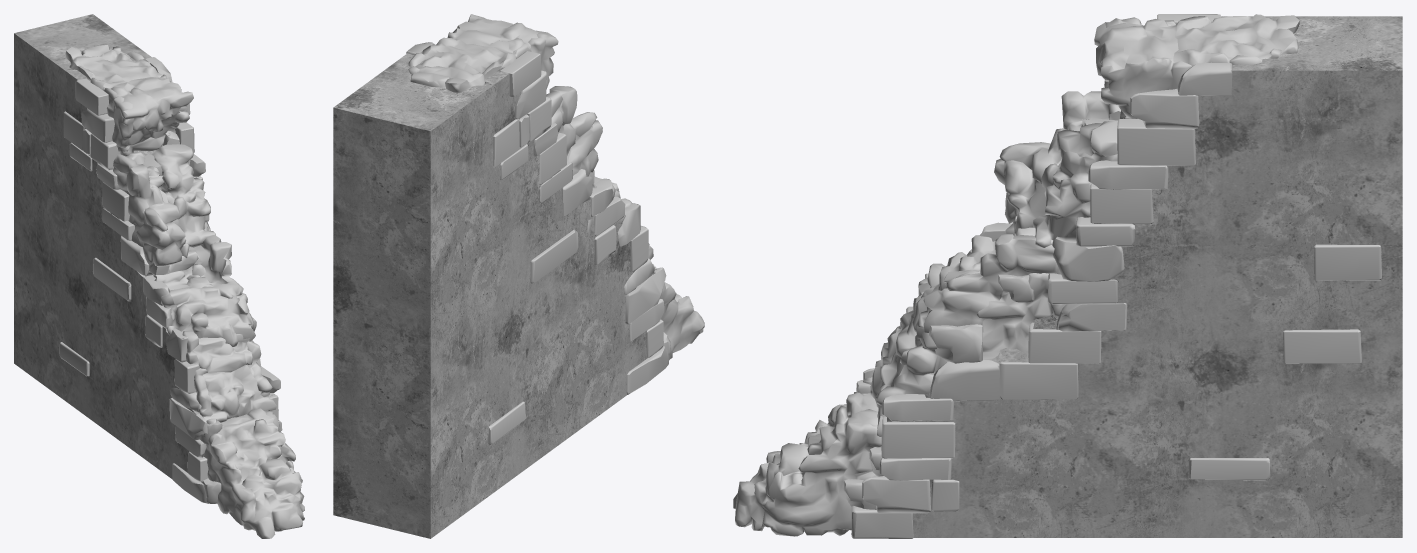
Rendered from SM_Wall_8x8_Broken_01a.fbx.
3 renders of one model, left to right at view 1: azimuth 30°, elevation 25°; view 2: azimuth 150°, elevation 25°; view 3: azimuth 270°, elevation 25°, orthographic. The views are drawn at different scales.
Visible parts, largest first — view 1: SM_Wall_8x8_Broken_01a_LOD0; view 2: SM_Wall_8x8_Broken_01a_LOD0; view 3: SM_Wall_8x8_Broken_01a_LOD0.
Part boxes in pixels (x1=…): SM_Wall_8x8_Broken_01a_LOD0: x1=14, y1=14, x2=304, y2=538; SM_Wall_8x8_Broken_01a_LOD0: x1=333, y1=14, x2=704, y2=538; SM_Wall_8x8_Broken_01a_LOD0: x1=733, y1=14, x2=1402, y2=538.
Size of the model in its own units: 230 by 1038 by 835.
